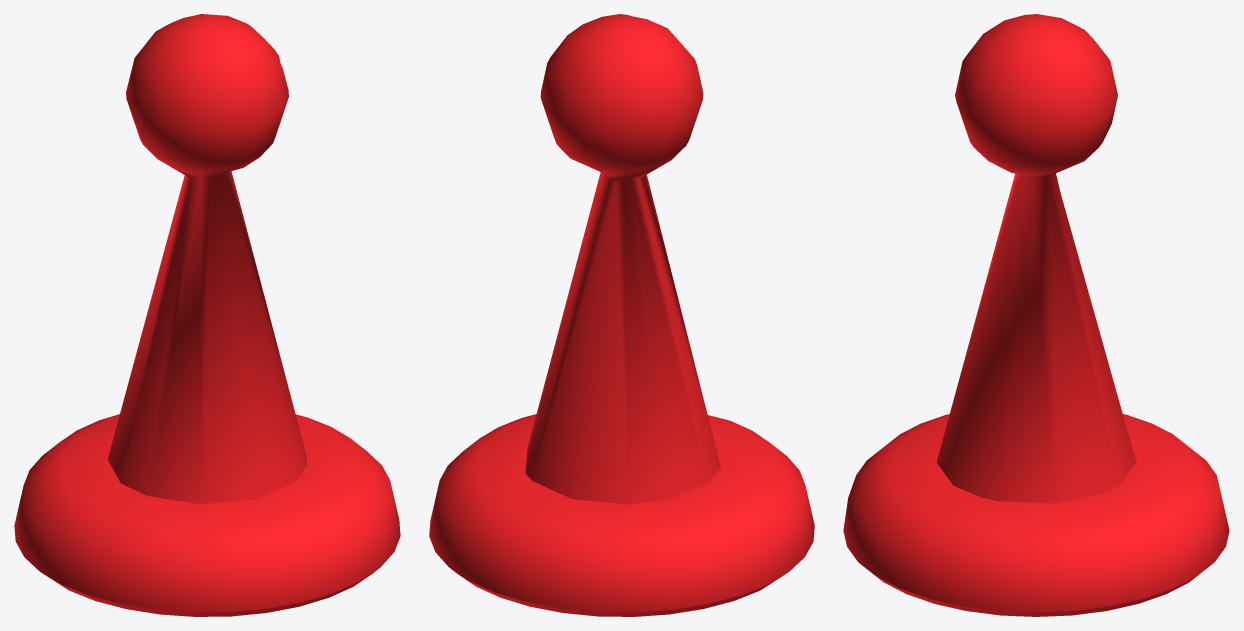
Rendered from FichaPlayer_Rojo.glb.
3 renders of one model, left to right at view 1: azimuth 30°, elevation 25°; view 2: azimuth 150°, elevation 25°; view 3: azimuth 270°, elevation 25°, orthographic.
Parts seen in each view (by area): view 1: prim0; view 2: prim0; view 3: prim0.
Part boxes in pixels (x1,y1,x2,y2): prim0: [14, 14, 400, 616]; prim0: [429, 14, 814, 616]; prim0: [843, 14, 1229, 616].
Bounding box in the file's own units: 1.72 × 2.55 × 1.72.
